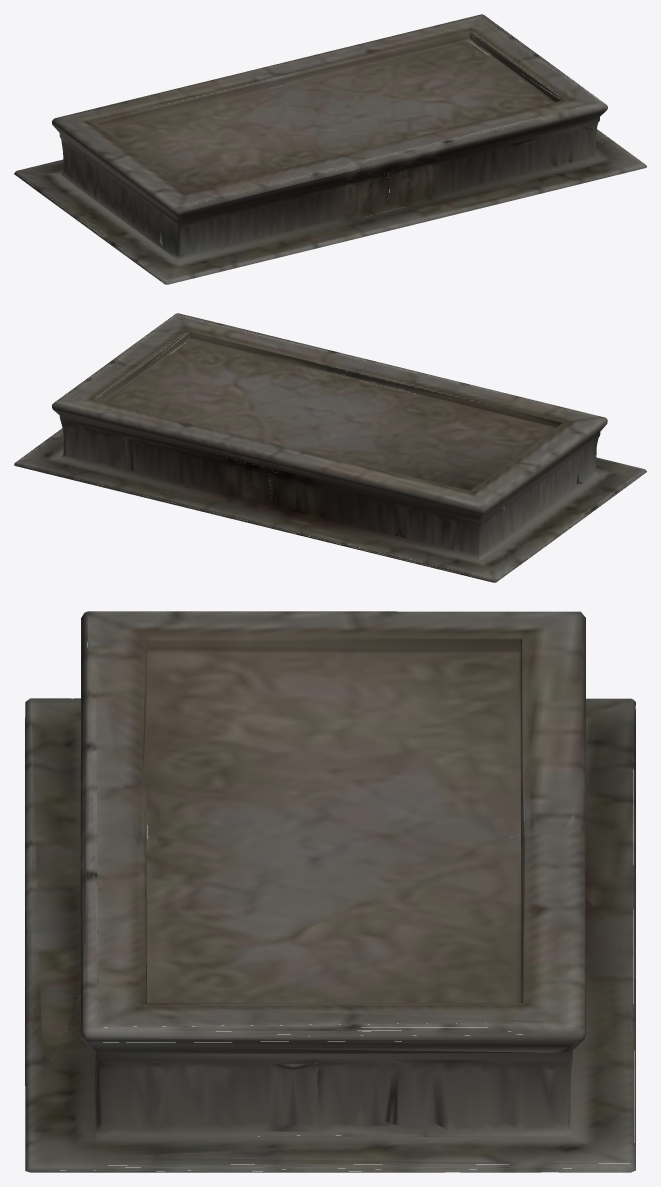
The model's file is lordaeron-cemetery-tomb.glb.
3 views of the same model, one above another, from view 1: azimuth 30°, elevation 25°; view 2: azimuth 150°, elevation 25°; view 3: azimuth 270°, elevation 25° (orthographic). The views are drawn at different scales.
Visible parts, largest first — view 1: Lordaeron_Tomb_Export; view 2: Lordaeron_Tomb_Export; view 3: Lordaeron_Tomb_Export.
Part boxes in pixels (bbox=[...]): Lordaeron_Tomb_Export: bbox=[14, 14, 646, 284]; Lordaeron_Tomb_Export: bbox=[14, 313, 646, 582]; Lordaeron_Tomb_Export: bbox=[25, 611, 635, 1172].
Bounding box in the file's own units: 0.2734 × 0.0318 × 0.1499.
Materials: 1 (1 with a texture image).
